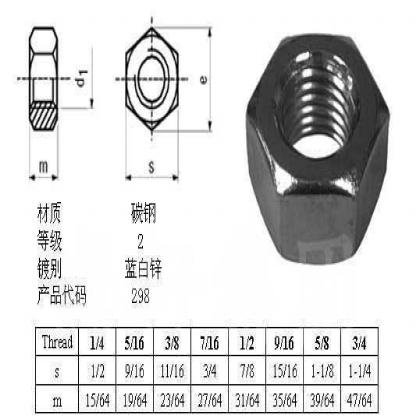FOD: (240, 27, 392, 269), (123, 25, 181, 133)
